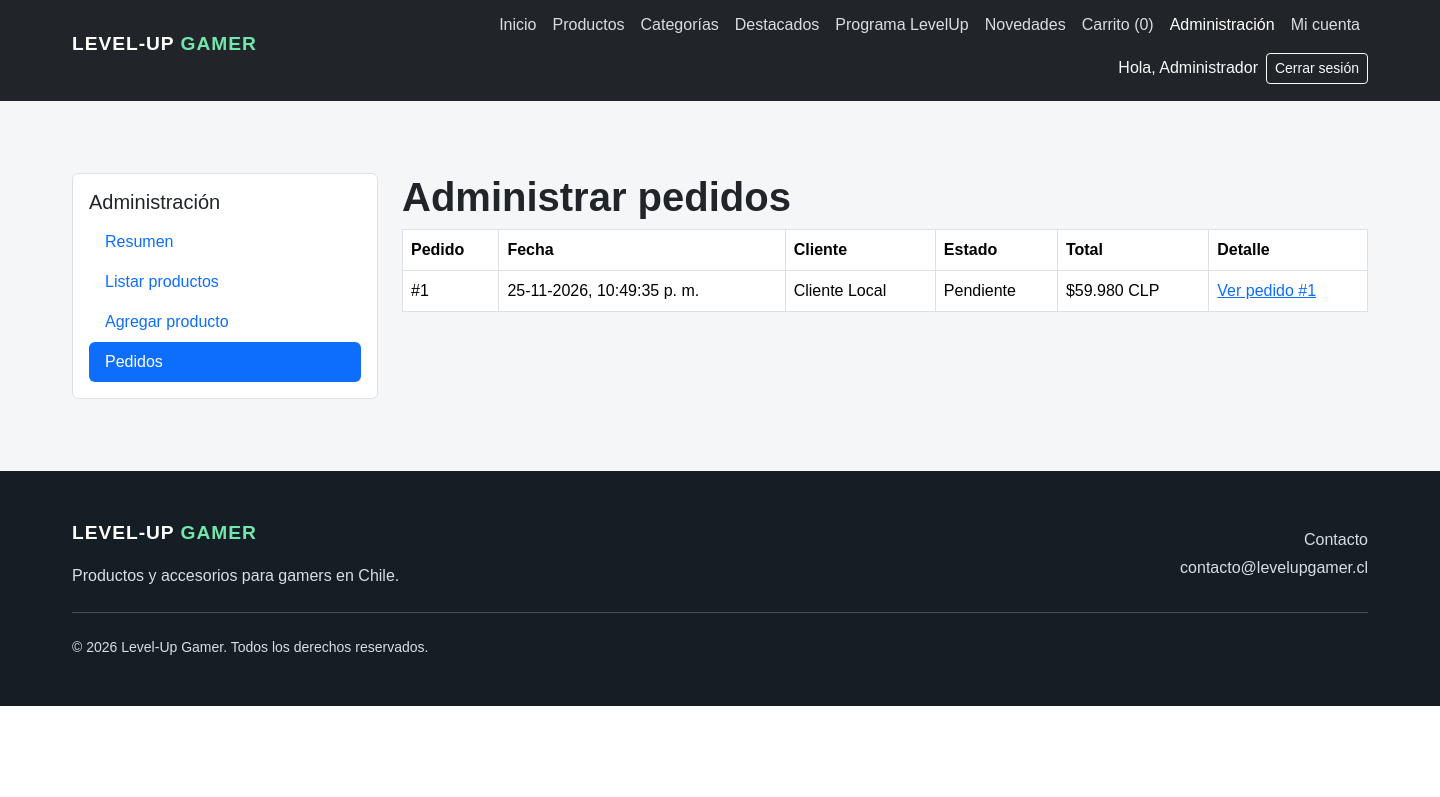
Test: el administrador consulta pedidos y confirma la cancelación antes de devolver stock
Click the link "Ver pedido #1".
click(1262, 291)  # box [1217, 282, 1316, 299]
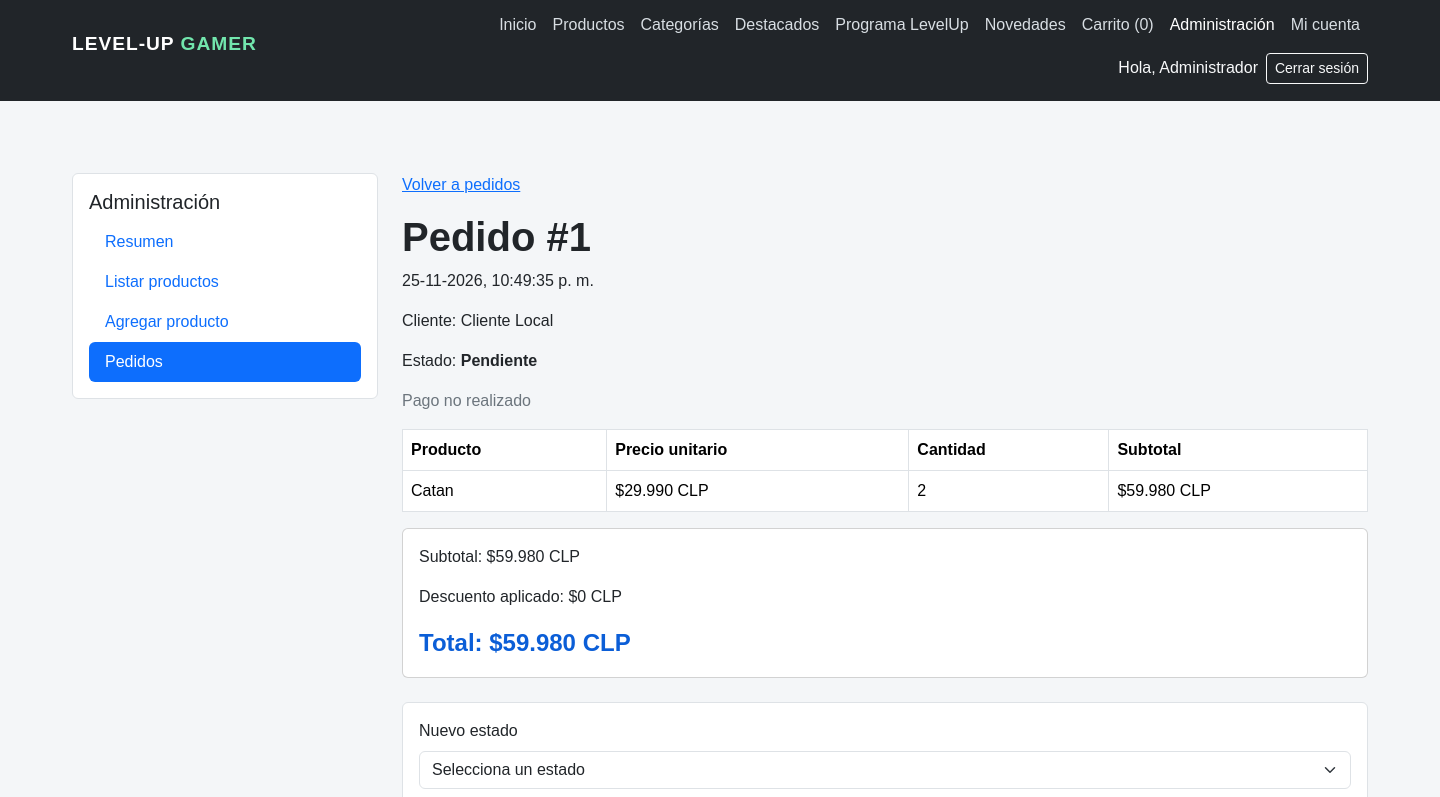
Expected: the heading "Pedido #1" is shown, [402, 215, 591, 259]
Select "Cancelado" in the dropdown labelled "Nuevo estado" at (885, 770), box [419, 751, 1351, 789]
(page scrolled)
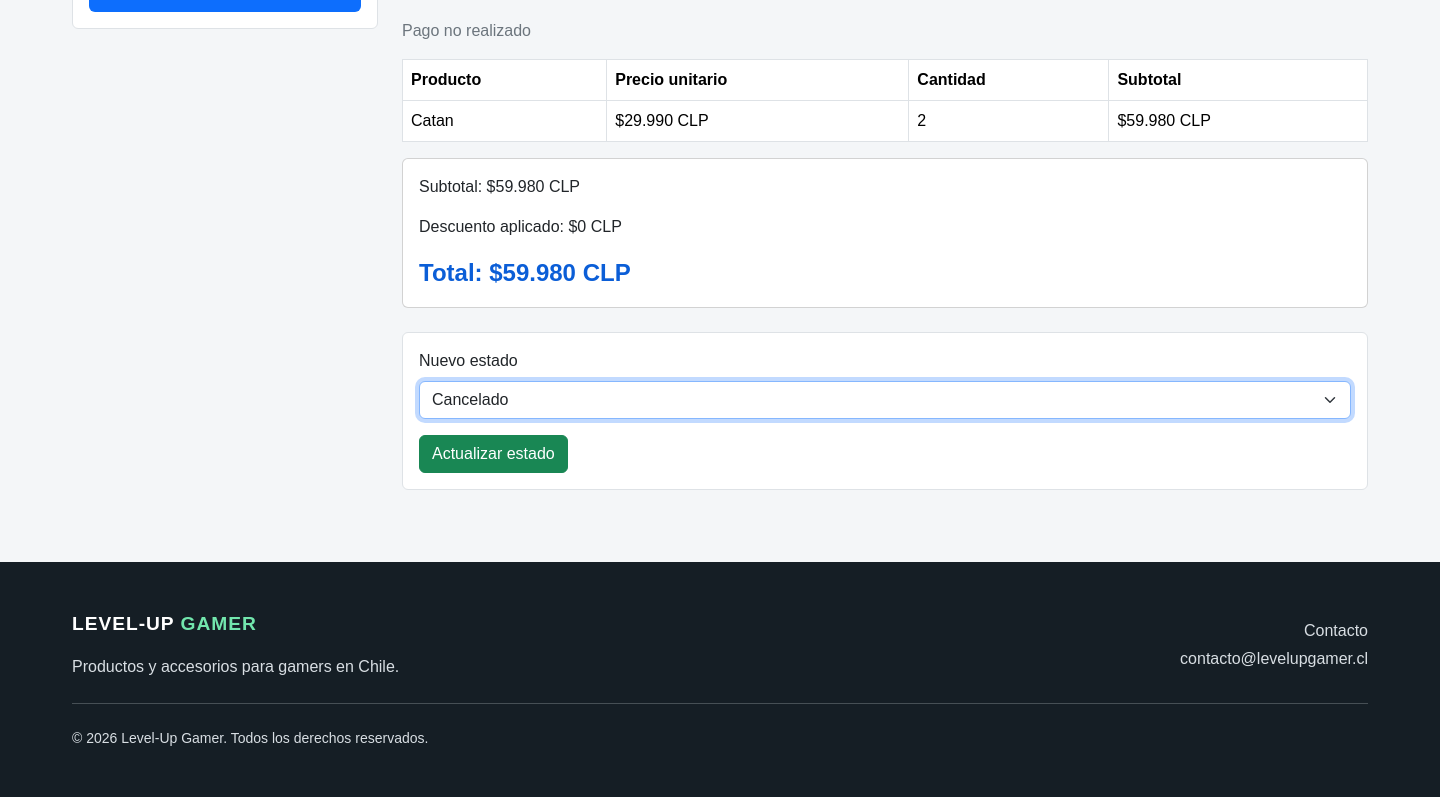
Click the button "Actualizar estado".
click(493, 454)  # box [419, 435, 568, 473]
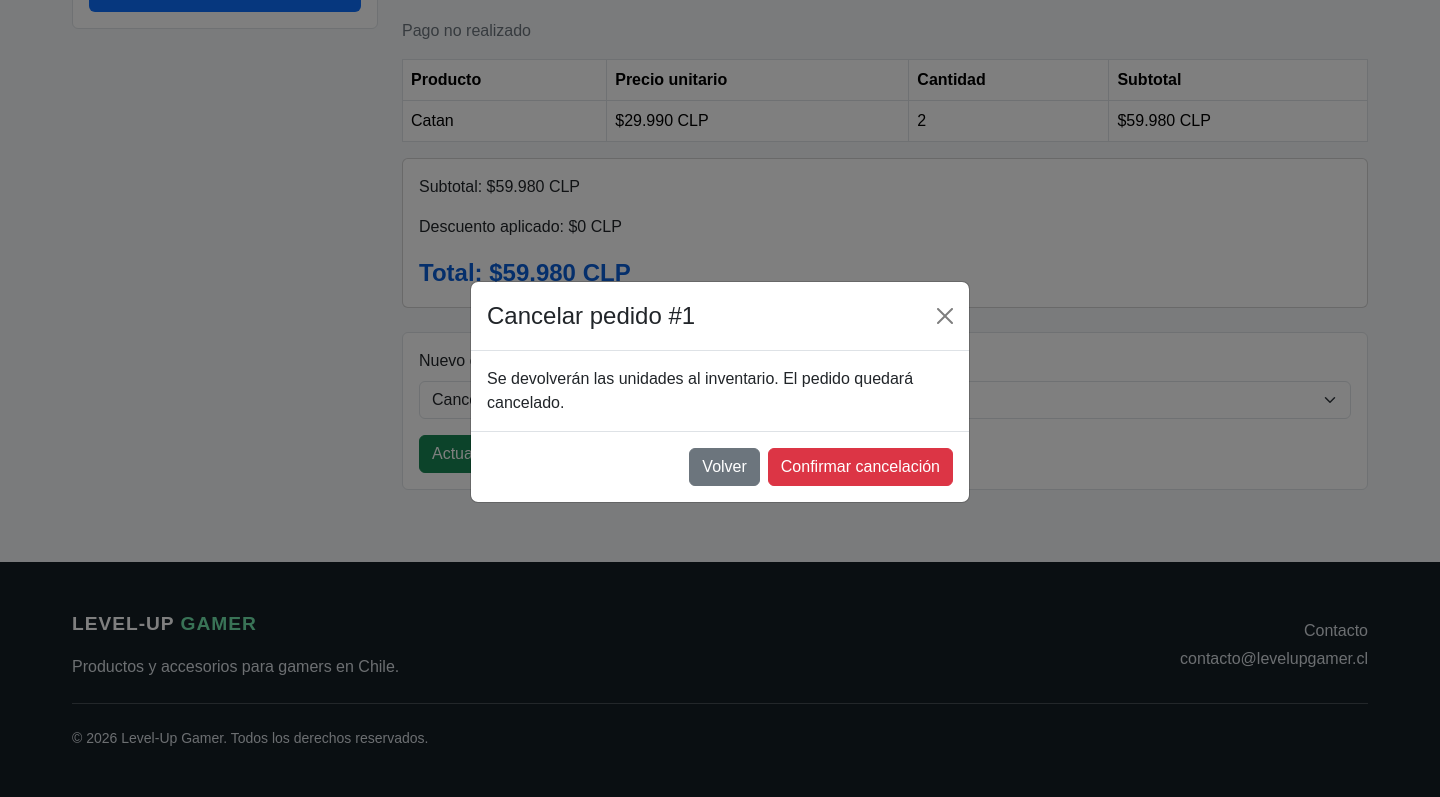
Expected: the dialog is shown, [470, 281, 970, 503]
Click the button "Confirmar cancelación".
click(860, 467)  # box [768, 448, 953, 486]
(page scrolled)
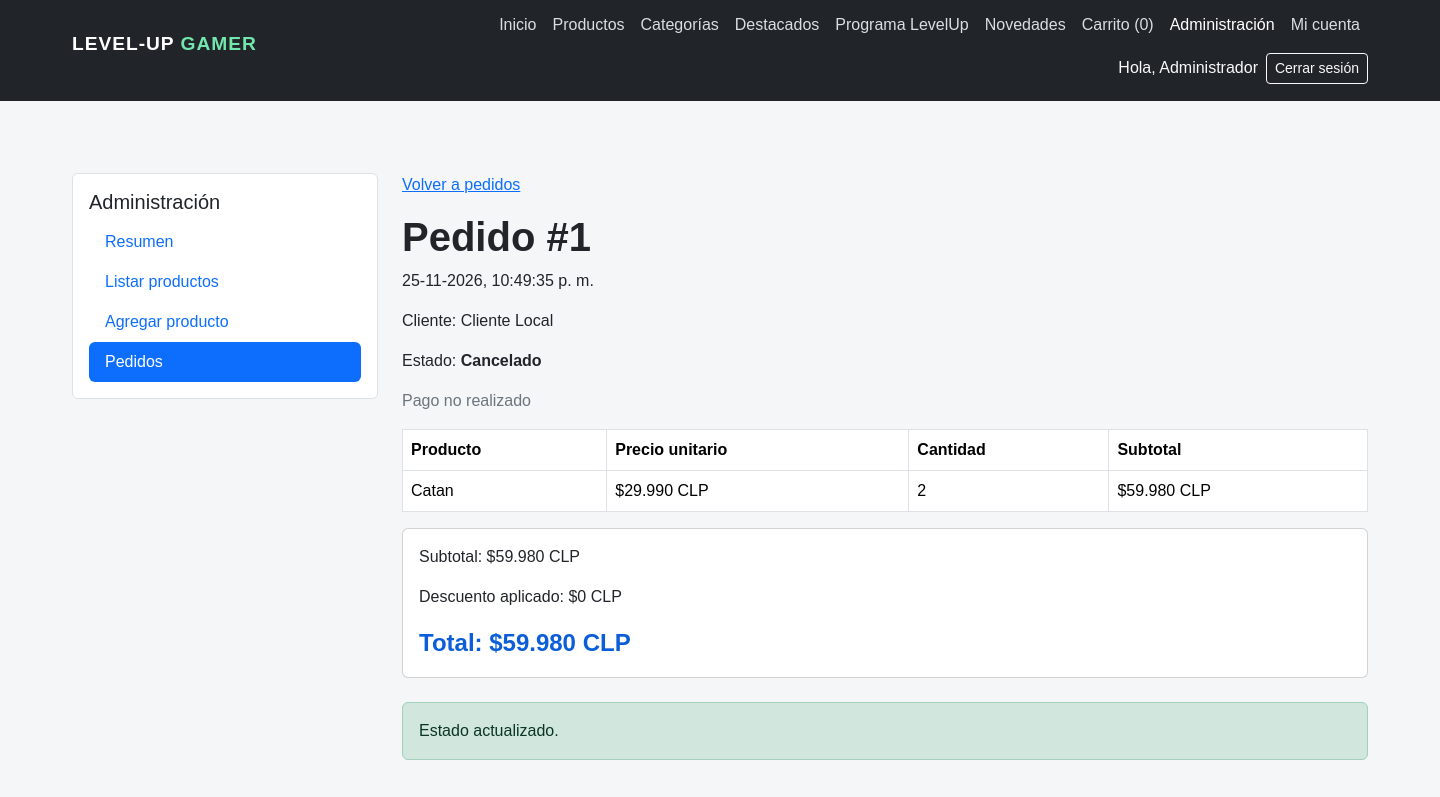
Expected: the text "Estado actualizado." is shown, [402, 702, 1368, 760]
Expected: the label labelled "Nuevo estado" is gone
Click the link "Resumen".
click(139, 242)  # box [105, 233, 174, 250]
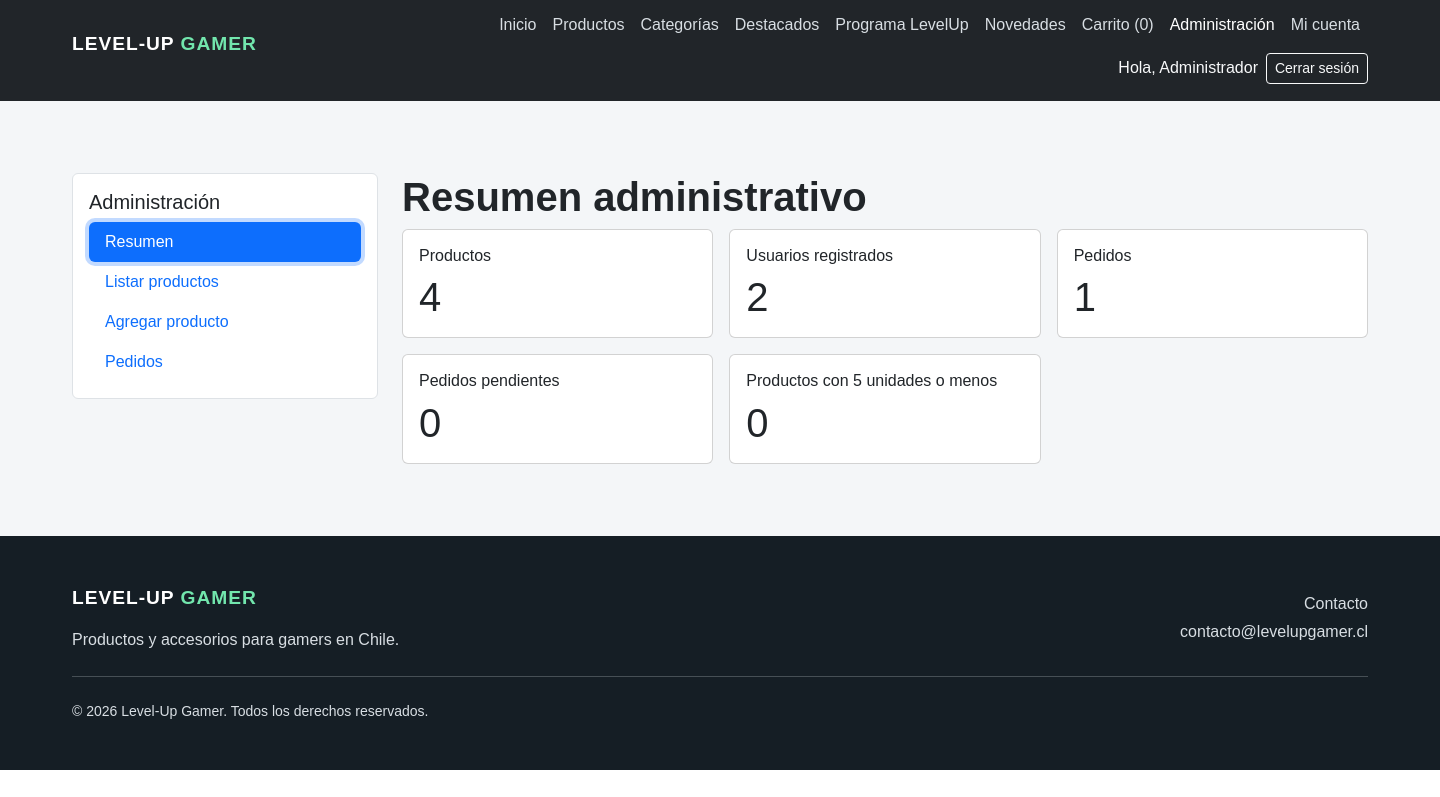
Expected: the heading "Resumen administrativo" is shown, [402, 175, 867, 219]
Expected: the heading "Productos con 5 unidades o menos" is shown, [746, 371, 1024, 391]
